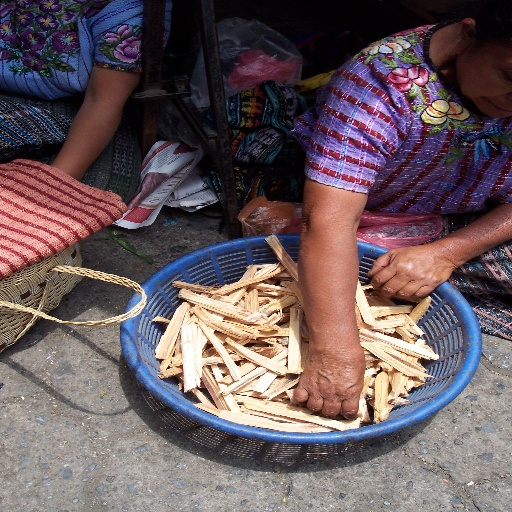hand: (371, 228, 477, 307), (291, 355, 368, 421)
